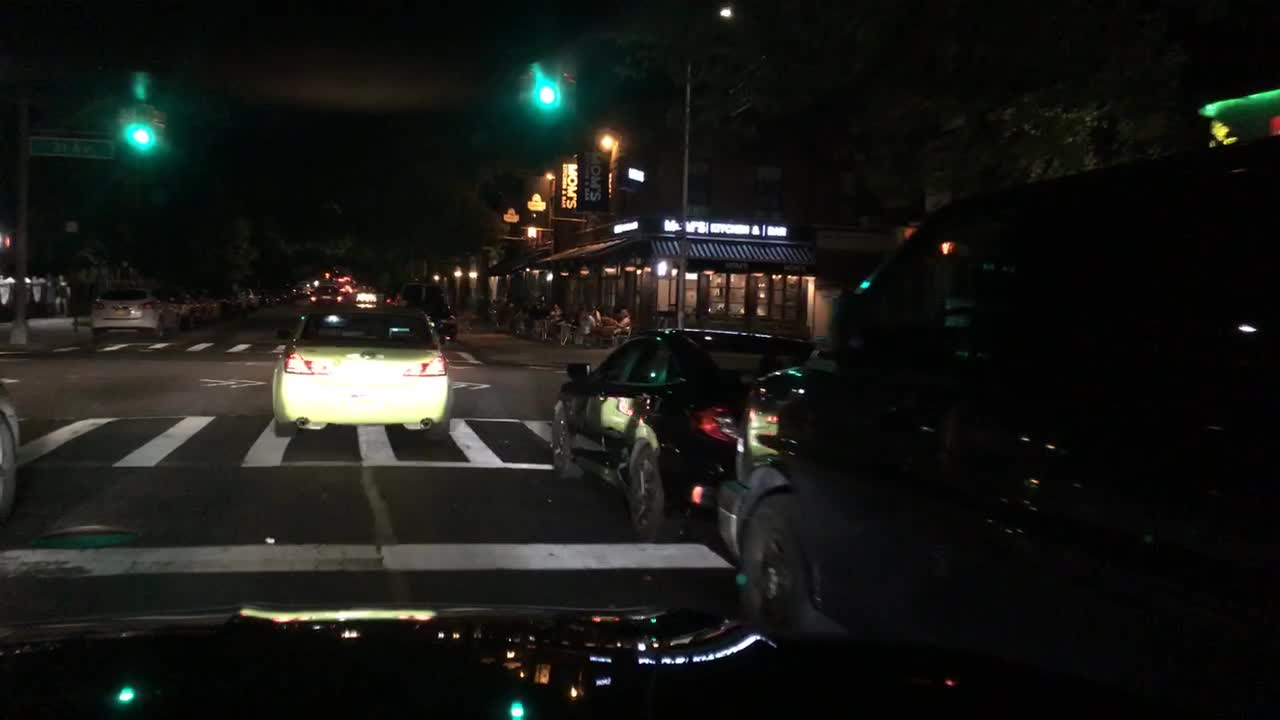car: (714, 130, 1279, 719), (550, 327, 813, 545), (270, 290, 454, 442), (87, 283, 182, 341), (381, 280, 459, 341), (0, 385, 18, 520), (152, 277, 197, 327), (192, 282, 222, 320), (307, 280, 346, 307), (217, 287, 246, 312), (236, 287, 263, 309), (263, 285, 282, 305), (251, 285, 270, 305), (276, 285, 297, 302), (290, 283, 302, 299)
person: (579, 300, 617, 334), (50, 268, 72, 319), (604, 300, 631, 336), (543, 299, 565, 336)
traffic light: (555, 61, 579, 113), (150, 96, 167, 153), (131, 98, 150, 147), (536, 64, 557, 104), (516, 66, 535, 110), (116, 99, 131, 150), (651, 255, 671, 275), (0, 233, 17, 253)
traffic sign: (25, 135, 113, 160)
